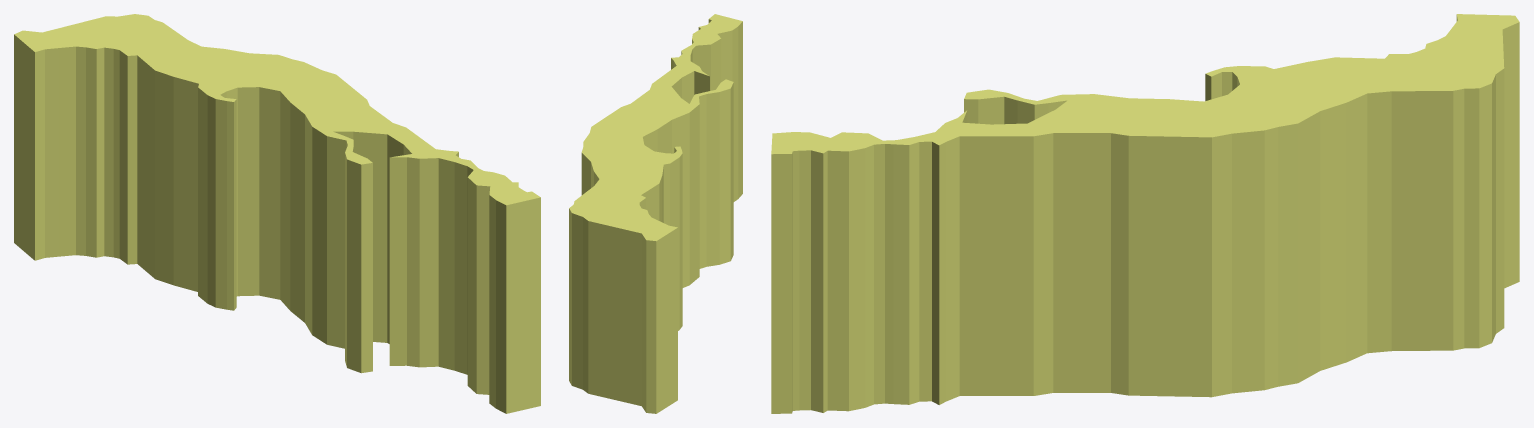
Rendered from seabright.glb.
3 views of the same model, side by side, from view 1: azimuth 30°, elevation 25°; view 2: azimuth 150°, elevation 25°; view 3: azimuth 270°, elevation 25° (orthographic). The views are drawn at different scales.
Parts seen in each view (by area): view 1: Plane.039; view 2: Plane.039; view 3: Plane.039.
Boxes of the visible parts, left/top/right/bottom form: Plane.039: left=14, top=14, right=540, bottom=413; Plane.039: left=569, top=14, right=742, bottom=413; Plane.039: left=771, top=14, right=1519, bottom=413.
Bounding box in the file's own units: 0.4463 × 0.3856 × 1.01.
